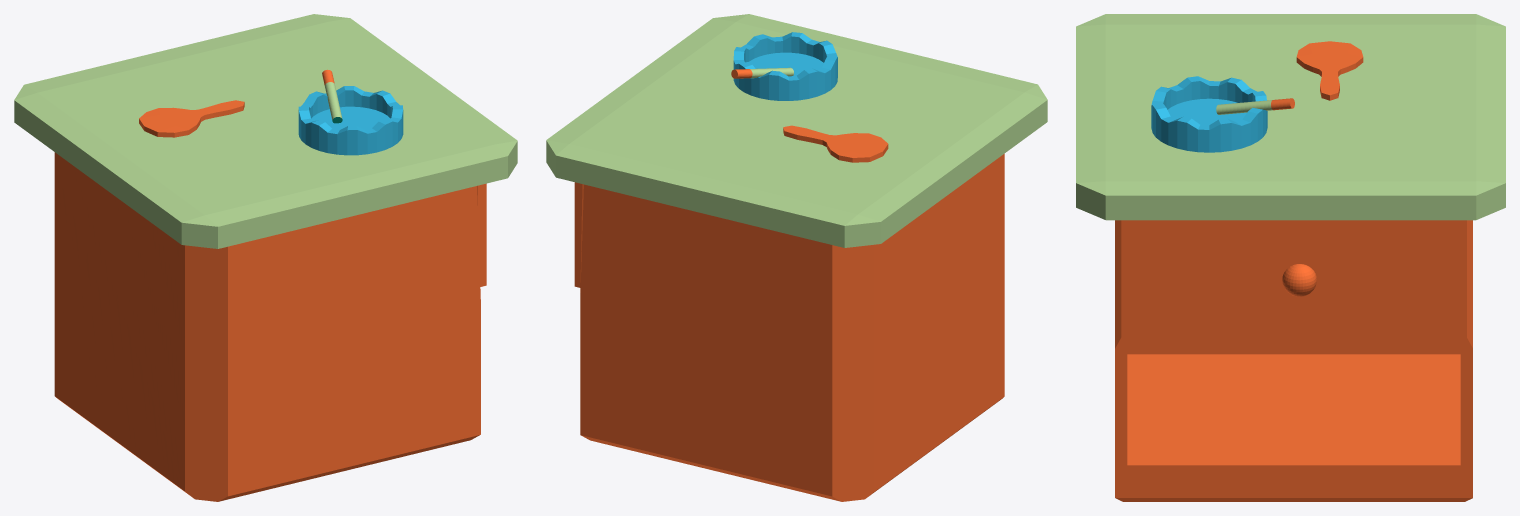
The model's file is Mesita Llave y Cenicero.FBX.
The picture shows the model from 3 angles, left to right: view 1: azimuth 30°, elevation 25°; view 2: azimuth 150°, elevation 25°; view 3: azimuth 270°, elevation 25°; orthographic projection. The views are drawn at different scales.
Visible parts, largest first — view 1: Mesita Noche, Cenicero, Llave, Cigarro; view 2: Mesita Noche, Cenicero, Llave; view 3: Mesita Noche, Cenicero, Llave, Cigarro.
Part boxes in pixels (x1,y1,x2,y2): Mesita Noche: [14, 14, 517, 501]; Cenicero: [298, 86, 403, 155]; Llave: [139, 100, 244, 137]; Cigarro: [322, 69, 342, 123]; Mesita Noche: [546, 14, 1047, 501]; Cenicero: [733, 32, 837, 100]; Llave: [783, 125, 888, 162]; Mesita Noche: [1076, 14, 1505, 501]; Cenicero: [1151, 76, 1267, 152]; Llave: [1296, 41, 1363, 100]; Cigarro: [1216, 98, 1294, 114].
Bounding box in the file's own units: 86.58 × 81.51 × 86.58.
